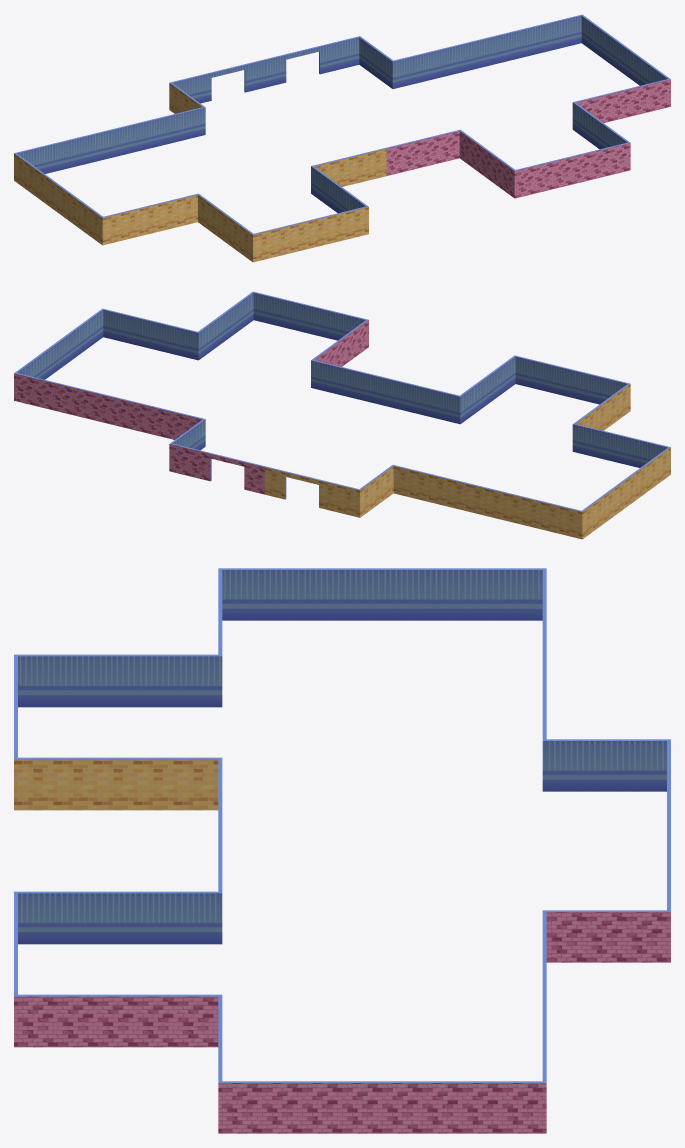
Rendered from Tienda1_Walls.fbx.
3 views of the same model, one above another, from view 1: azimuth 30°, elevation 25°; view 2: azimuth 150°, elevation 25°; view 3: azimuth 270°, elevation 25° (orthographic). The views are drawn at different scales.
Visible parts, largest first — view 1: Walls Exterior; view 2: Walls Exterior; view 3: Walls Exterior.
Part boxes in pixels (bbox=[...]): Walls Exterior: bbox=[14, 14, 670, 262]; Walls Exterior: bbox=[14, 291, 670, 539]; Walls Exterior: bbox=[14, 568, 670, 1133].
Bounding box in the file's own units: 3040 × 140 × 1640.
